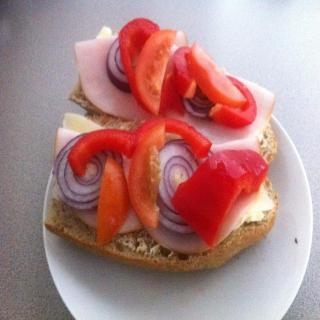tomato: (70, 110, 256, 255), (186, 40, 248, 106), (134, 26, 176, 112), (116, 16, 160, 98), (159, 46, 196, 114), (212, 74, 258, 128)
